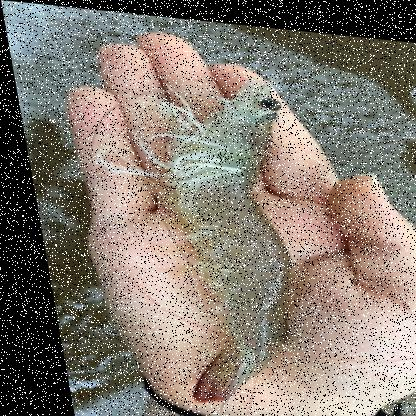shrimp: (61, 51, 329, 412)
